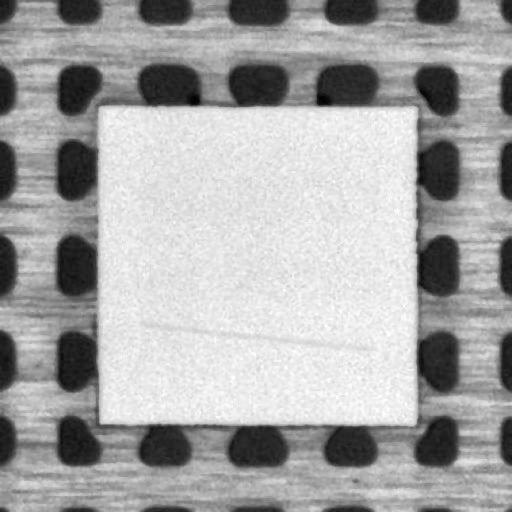DIE_CRACK: (138, 324, 373, 349)
